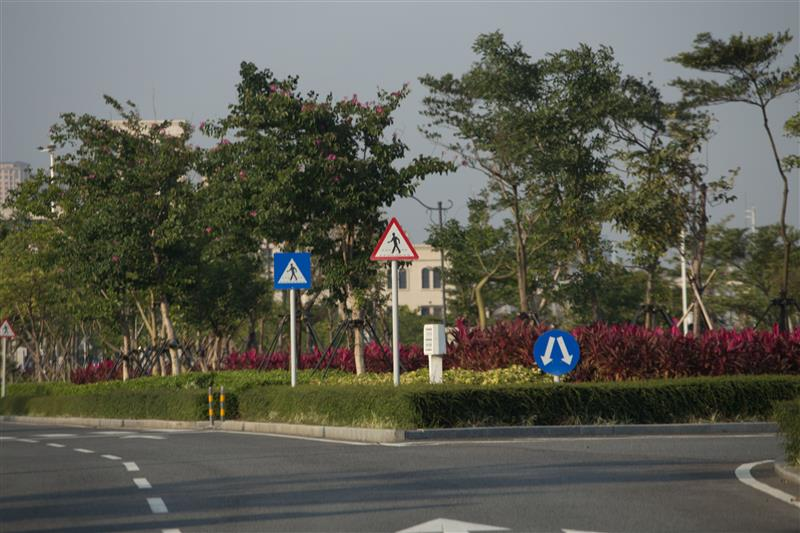keepLeftRight: (533, 329, 580, 376)
pedestrianCrossing: (274, 251, 311, 289)
pedestrianCrossingR: (371, 216, 419, 263)
